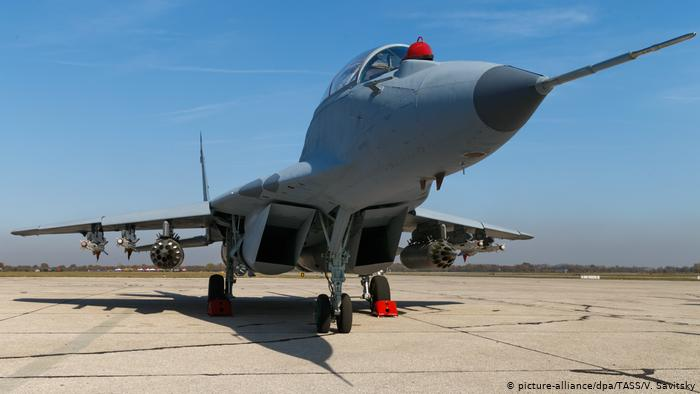Mig-29: (105, 25, 563, 334)
